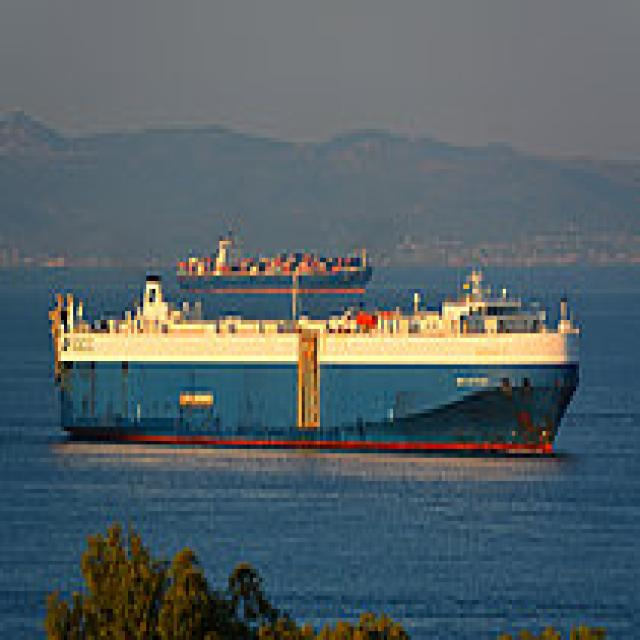Carrier: (46, 267, 582, 449)
